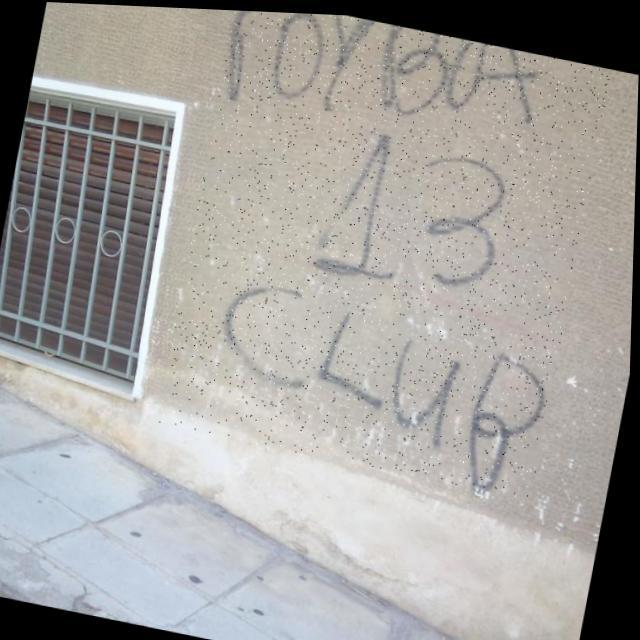-: (158, 5, 613, 498)
